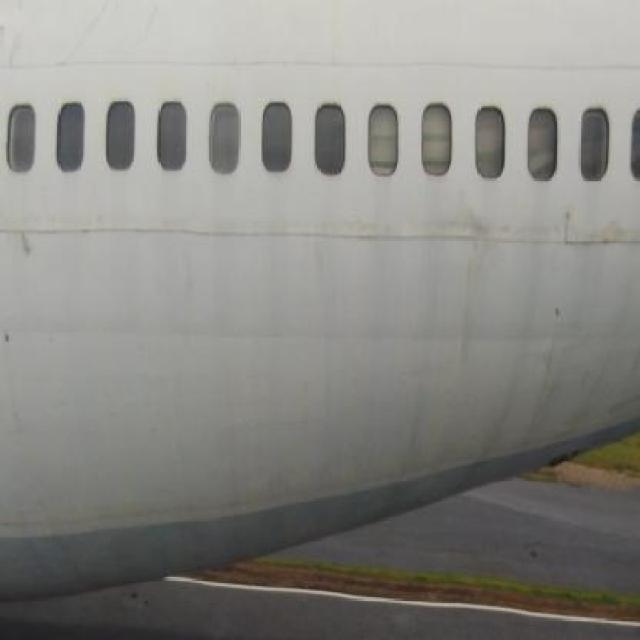Scartch: (558, 215, 640, 274)
